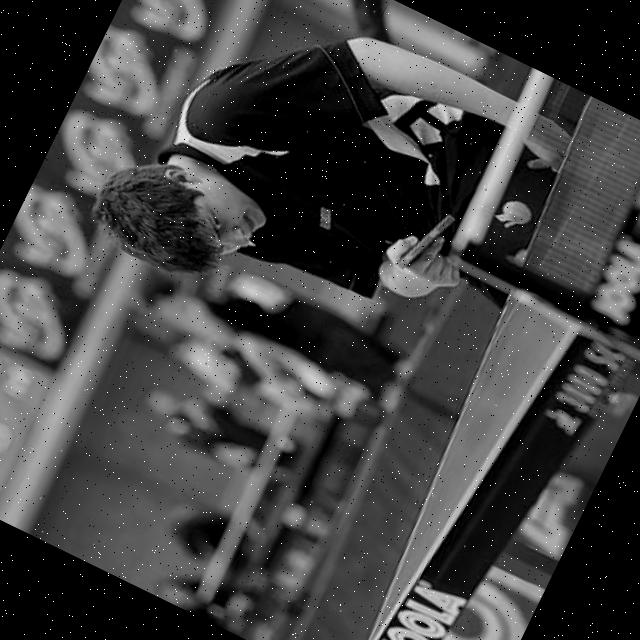ping-pong-ball: (494, 194, 534, 230)
